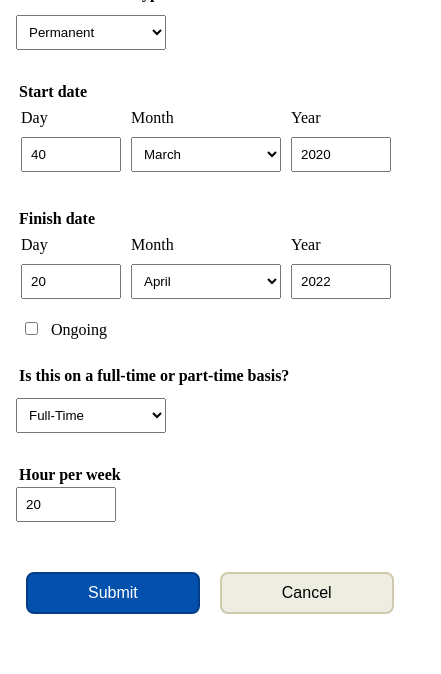
Scenario: Test create employee form › should show error message when invalid start date information entered
The image size is (441, 674).
(page scrolled)
Click the button with test id "submitBtn".
click(113, 593)  # box top-left (26, 572), bottom-right (200, 614)
(page scrolled)
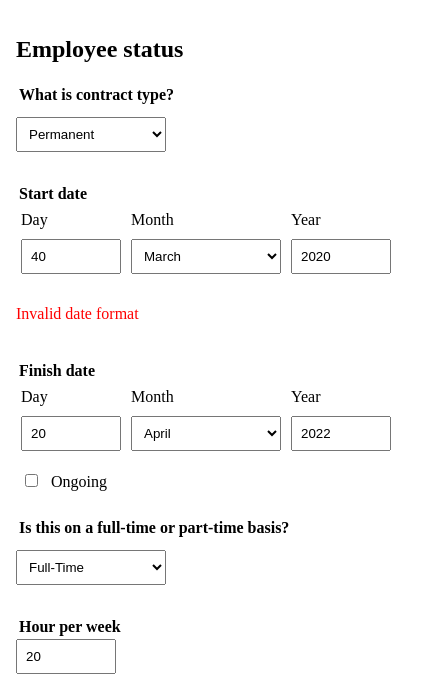
Check: the text "Invalid date format" is shown, box top-left (16, 305), bottom-right (139, 322)
